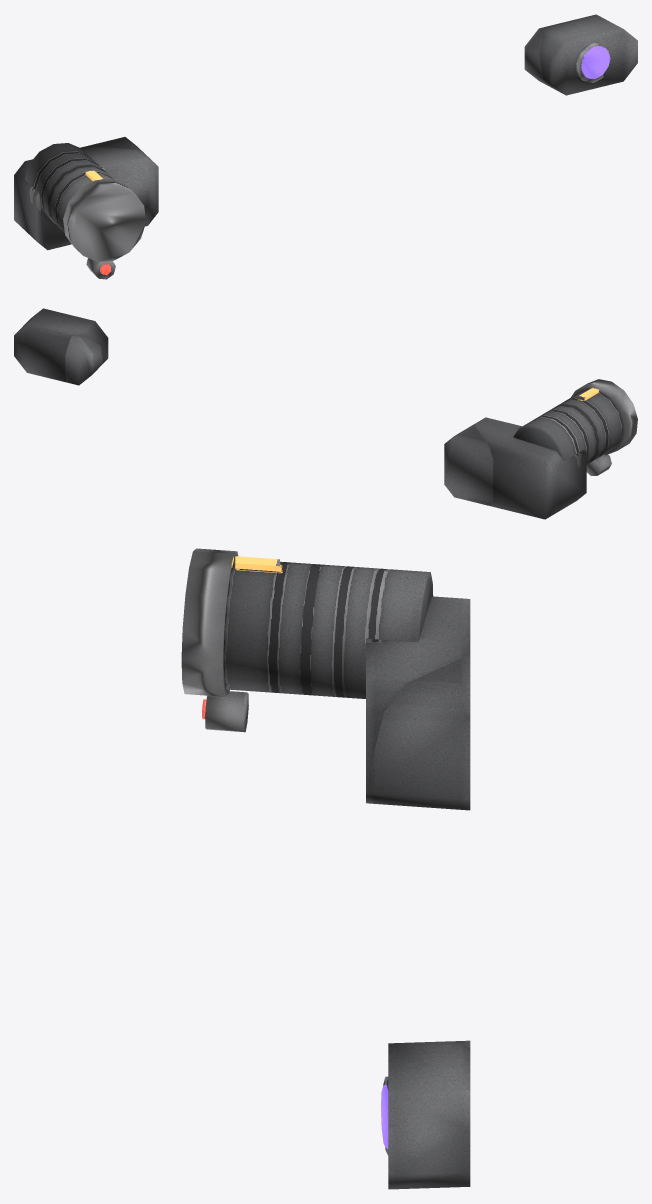
The model's file is ob5_ocular_ballistics.gltf.
3 renders of one model, top to bottom at view 1: azimuth 30°, elevation 25°; view 2: azimuth 150°, elevation 25°; view 3: azimuth 270°, elevation 25°, orthographic. The views are drawn at different scales.
Visible parts, largest first — view 1: B_head__ob5_ocular_ballistics; view 2: B_head__ob5_ocular_ballistics; view 3: B_head__ob5_ocular_ballistics.
Boxes of the visible parts, x1,y1,x2,y2 form: B_head__ob5_ocular_ballistics: [14, 14, 637, 279]; B_head__ob5_ocular_ballistics: [14, 308, 637, 519]; B_head__ob5_ocular_ballistics: [181, 548, 470, 1189].
Size of the model in its own units: 0.1723 by 0.0255 by 0.0384.
Materials: 1 (1 with a texture image).
